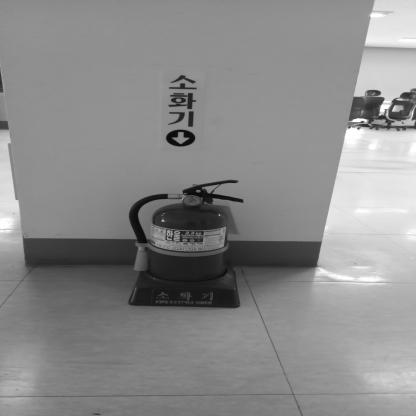FE: (129, 179, 244, 308)
